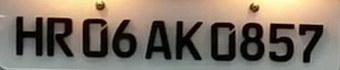character: (13, 14, 44, 58), (45, 14, 76, 58), (142, 19, 172, 62), (173, 18, 203, 61), (296, 21, 326, 64), (110, 16, 139, 60), (208, 20, 237, 62), (81, 17, 109, 58), (267, 21, 295, 61), (239, 21, 265, 62)
